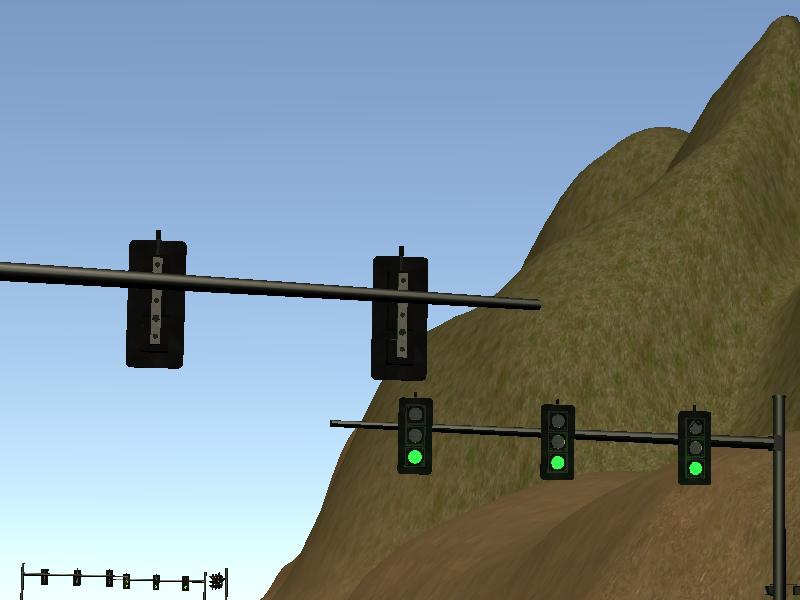Green: (398, 397, 432, 475), (541, 405, 573, 479), (679, 413, 710, 485), (181, 575, 189, 591), (122, 574, 130, 588), (153, 575, 160, 589)
